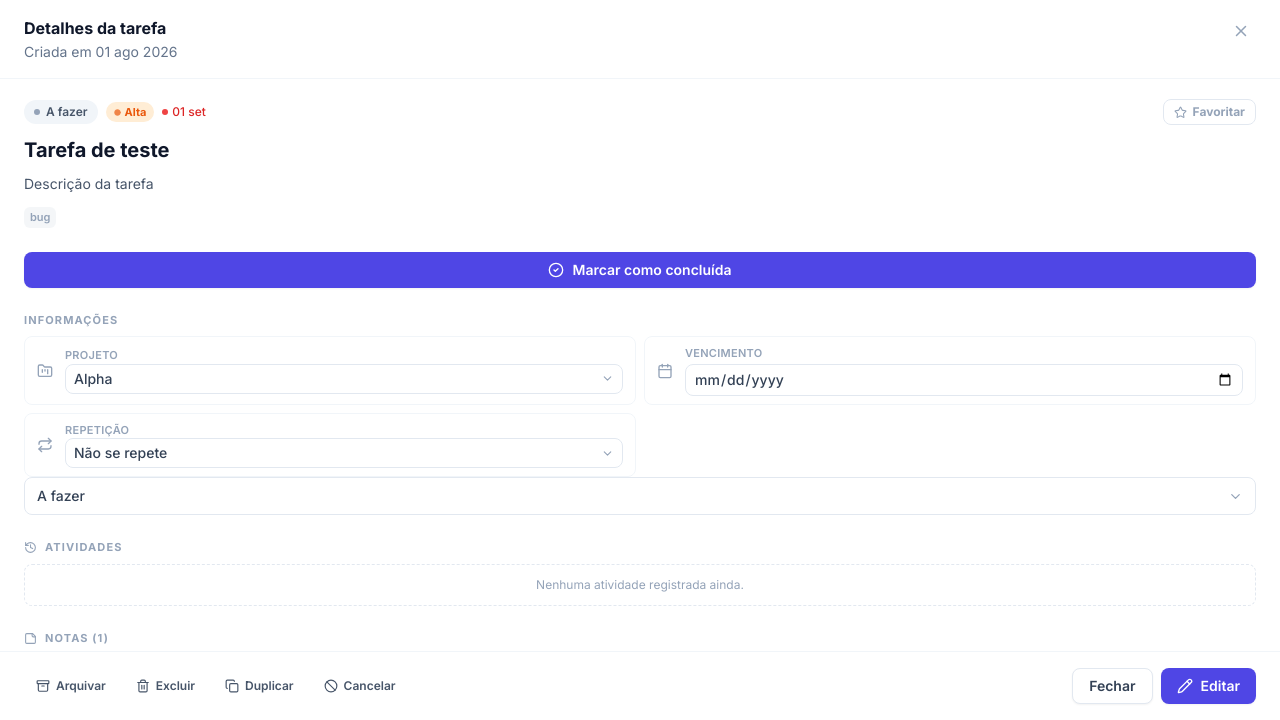
Test: TaskDetailDrawer – delete flow › closes ConfirmDialog when cancel is clicked
Click the button "Excluir" at {"x": 165, "y": 686}, box [124,670,207,702]
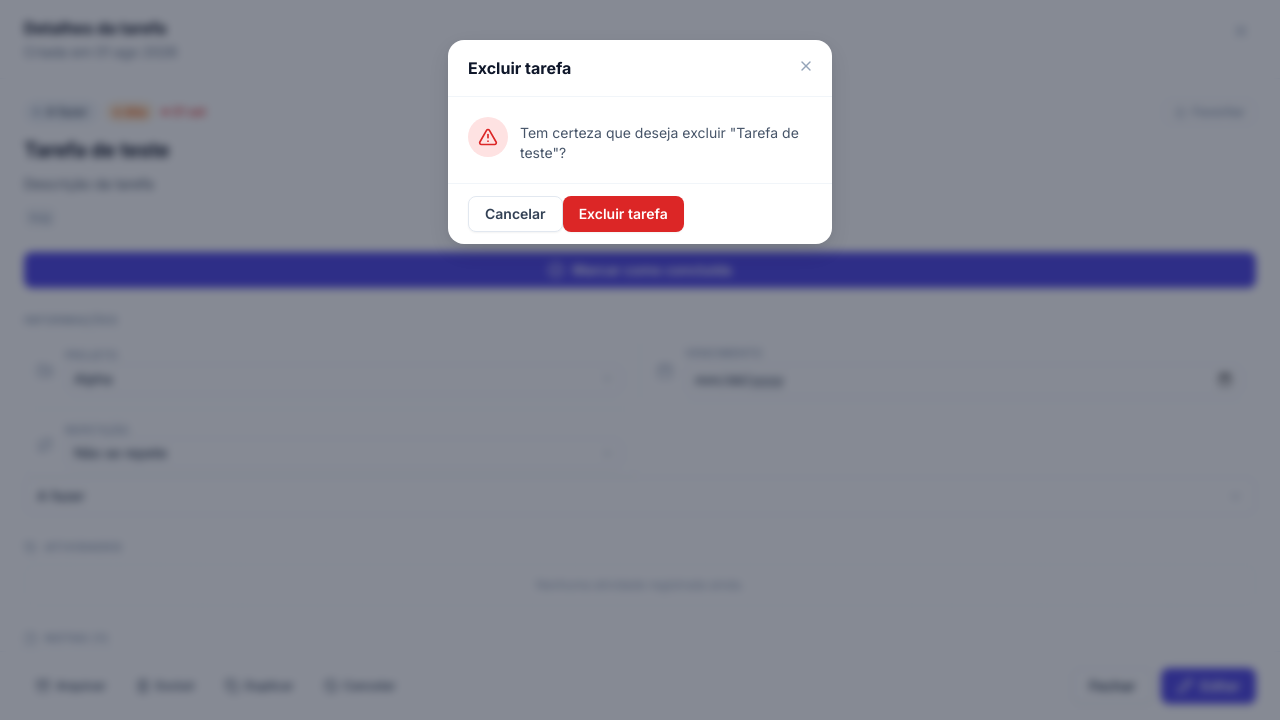
Expected: the text "Tem certeza que deseja excluir \"Tarefa de teste\"?" is shown, [520,117,812,163]
// ConfirmDialog's hardcoded "Cancelar" — pick the last one rendered (portal comes after the Drawer footer)
Click the button "Cancelar" at {"x": 515, "y": 214}, box [468,196,563,232]
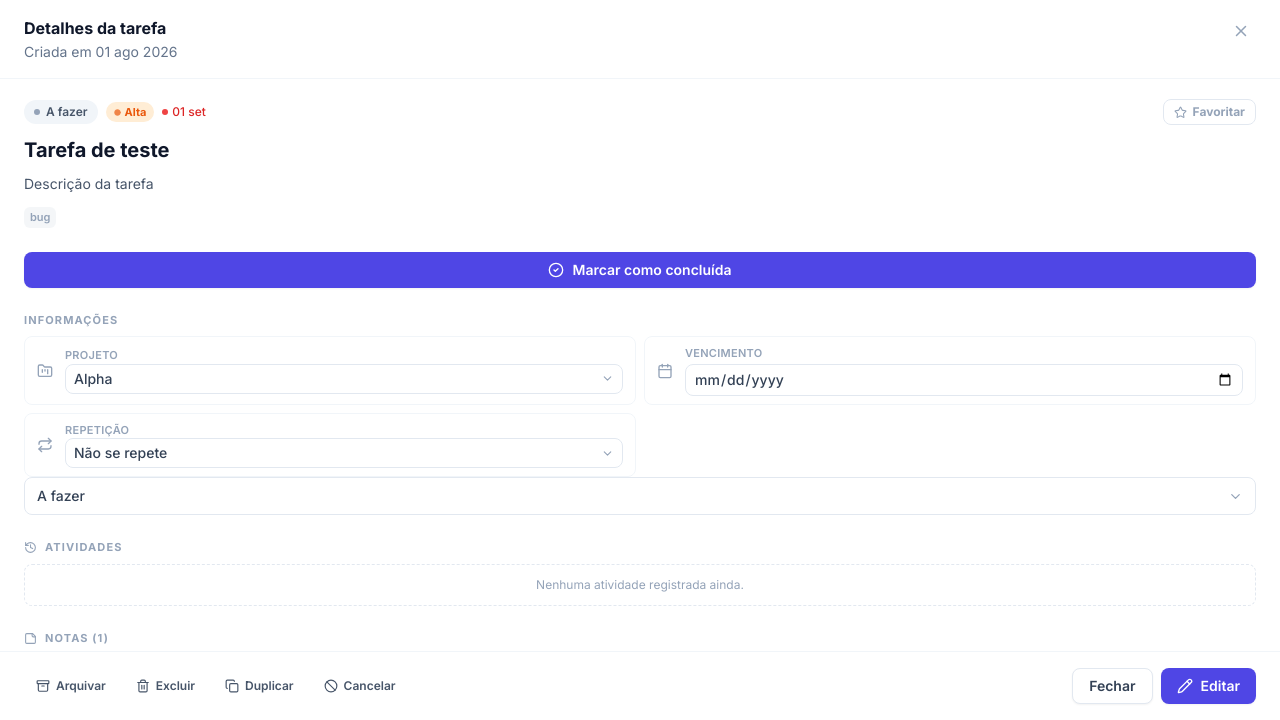
Expected: the heading "Detalhes da tarefa" is shown, [24,16,178,40]
Expected: the text "Tem certeza que deseja excluir" is gone
